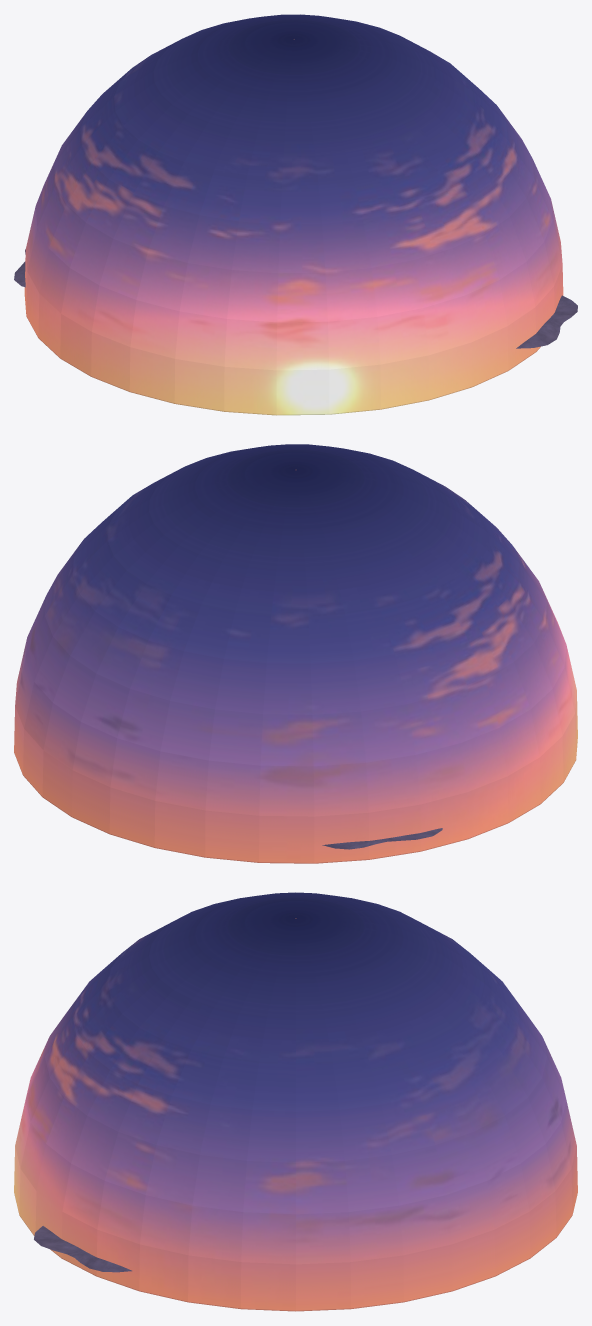
The model's file is lugar-shanghai-ciudad.glb.
3 views of the same model, one above another, from view 1: azimuth 30°, elevation 25°; view 2: azimuth 150°, elevation 25°; view 3: azimuth 270°, elevation 25° (orthographic). The views are drawn at different scales.
Parts seen in each view (by area): view 1: planoC, vertT; view 2: planoC, vertT; view 3: planoC, vertT.
Boxes of the visible parts, x1=… form: planoC: x1=24, y1=14, x2=563, y2=415; vertT: x1=14, y1=249, x2=577, y2=348; planoC: x1=14, y1=444, x2=577, y2=863; vertT: x1=322, y1=828, x2=442, y2=849; planoC: x1=14, y1=892, x2=577, y2=1311; vertT: x1=34, y1=1226, x2=131, y2=1272.
Size of the model in its own units: 6584 by 3530 by 6584.
15 materials, 11 textured.
